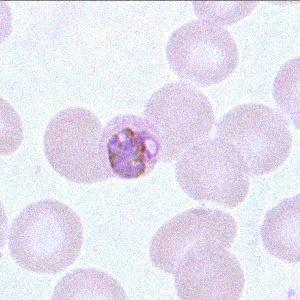Infected: (98, 114, 164, 180)
Uninfected: (150, 207, 238, 270), (9, 200, 82, 271), (146, 83, 216, 157), (219, 102, 290, 173), (176, 138, 250, 206), (43, 108, 107, 184), (167, 20, 238, 83), (177, 243, 243, 300)
